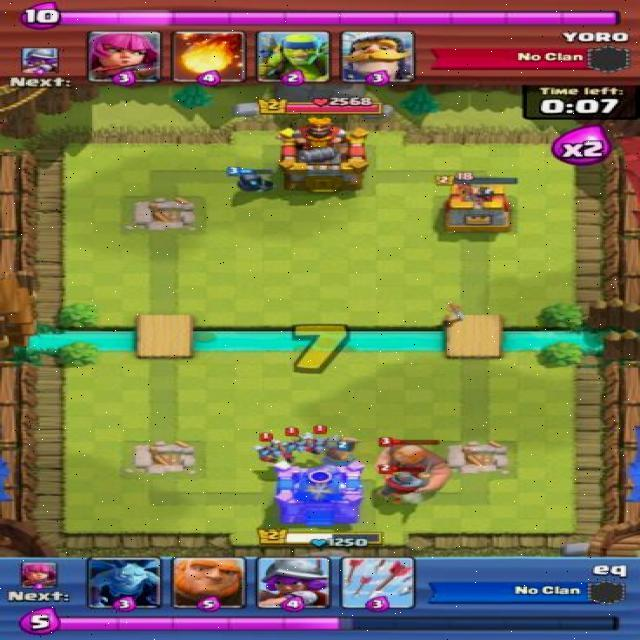EGiant: (378, 436, 446, 489)
EKingTower: (271, 124, 371, 190)
EKnight: (379, 477, 423, 502)
EnemyPrincessTower: (447, 176, 513, 239)
OMiniPekka: (235, 168, 278, 197)
OwnKingTower: (272, 460, 372, 537)
TowerDown: (433, 437, 521, 482), (122, 192, 208, 237), (119, 439, 205, 480)
eminion: (256, 435, 280, 465), (283, 431, 309, 457), (310, 439, 328, 458)
